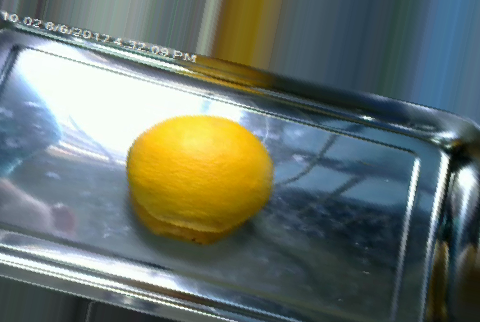Orange: (127, 113, 276, 232)
